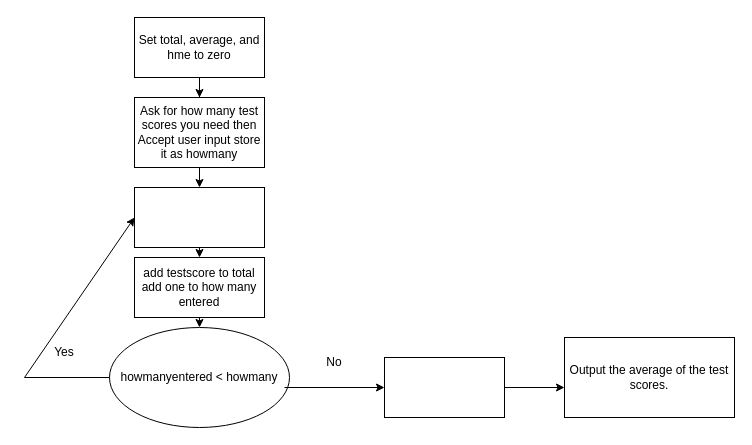
Some shapes in this 752 by 445 pixel diagram are drawn without their labels. The shapes that lost their labels are listed below. From the top down, each one's centre as x and y in pixels, then its label:
At point 199,217: "Ask for user test scores and stores it as testscore".
At point 444,387: "Compute average = total/howmany".
